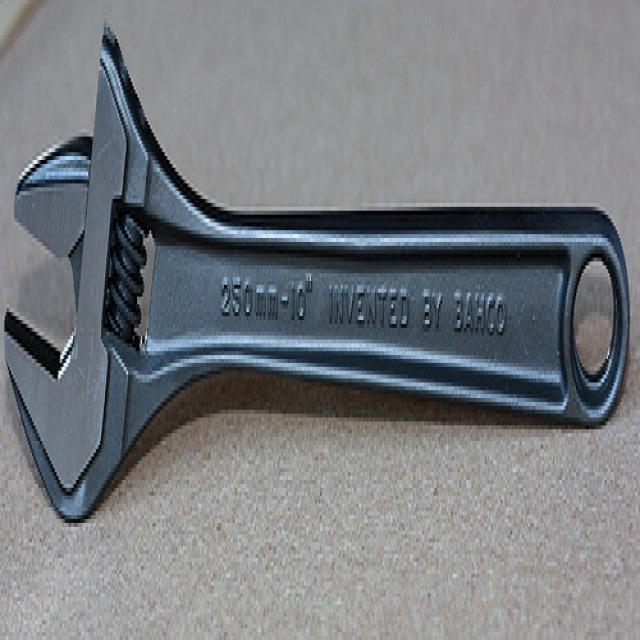wrench: (0, 21, 632, 552)
